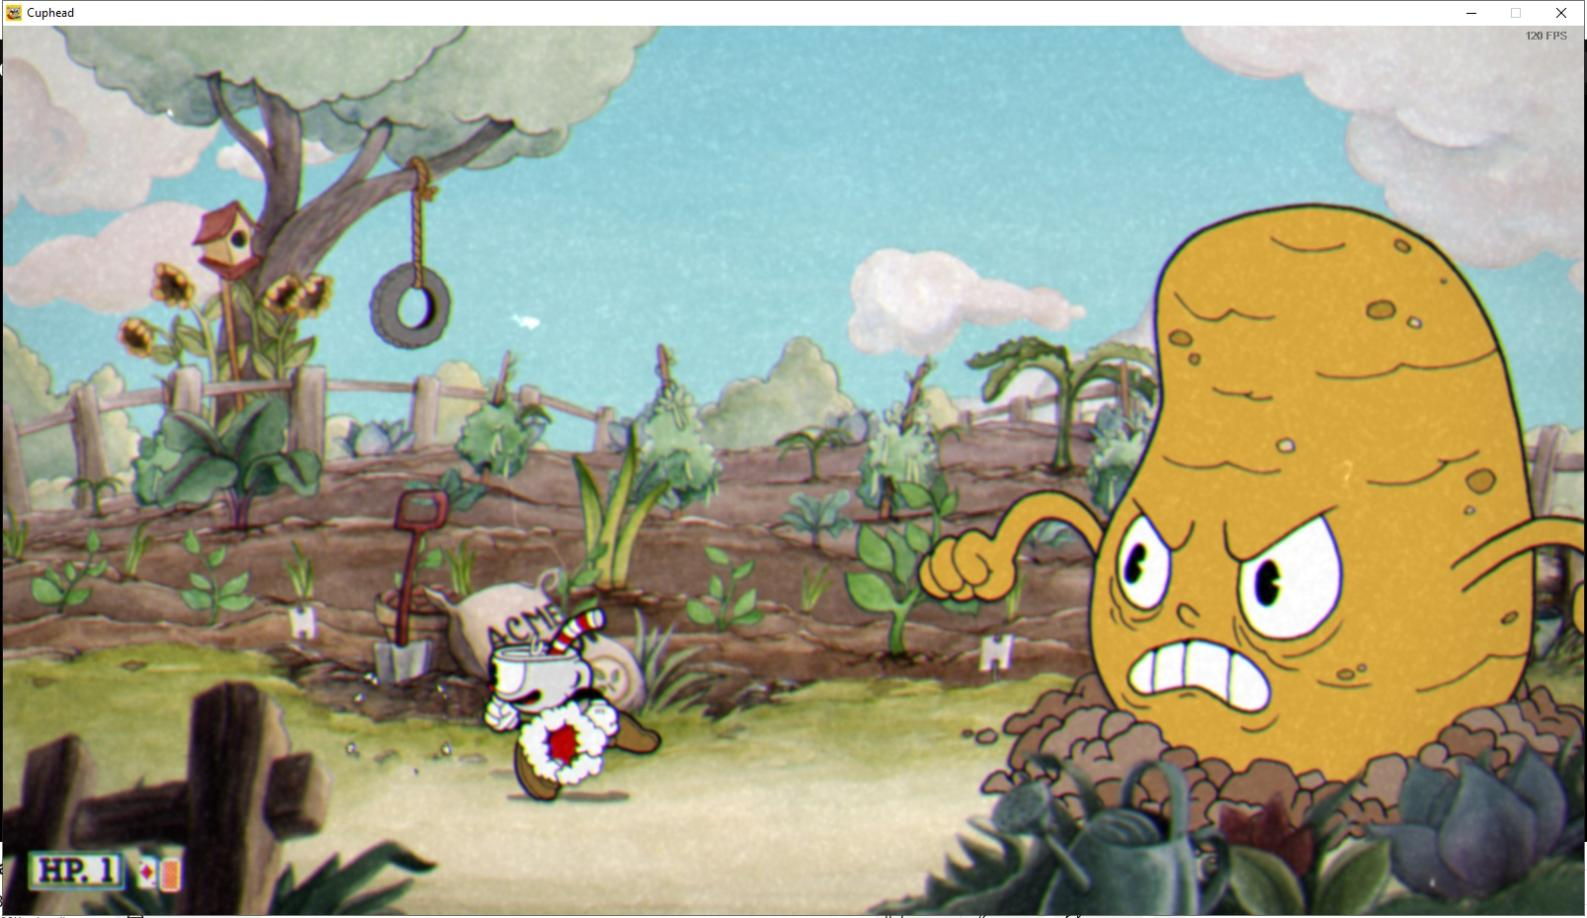hp1: (91, 849, 124, 893)
player: (476, 626, 670, 800)
potato_boss: (1084, 205, 1536, 776)
